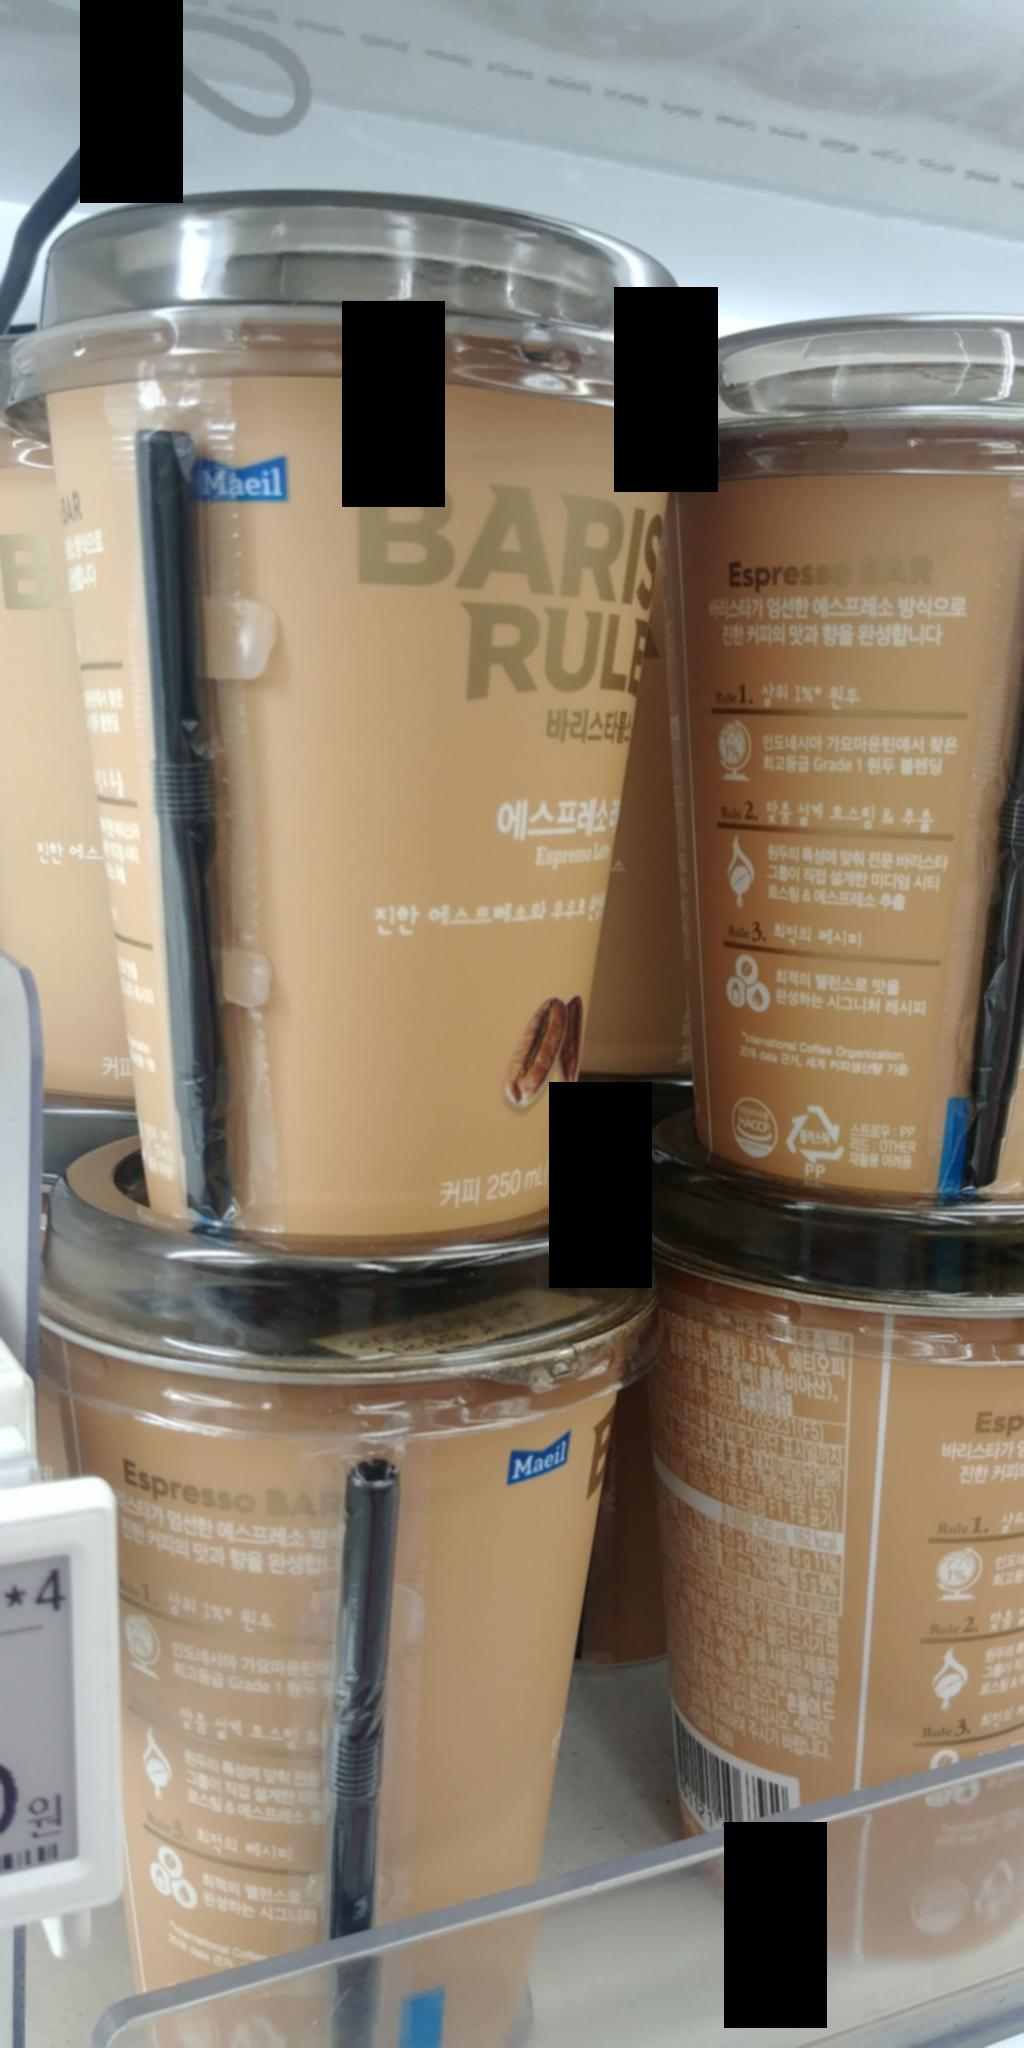baristarules_espressolatte: (38, 201, 652, 1254), (30, 1149, 603, 2047), (606, 1122, 1024, 1958), (675, 306, 1023, 1225)
